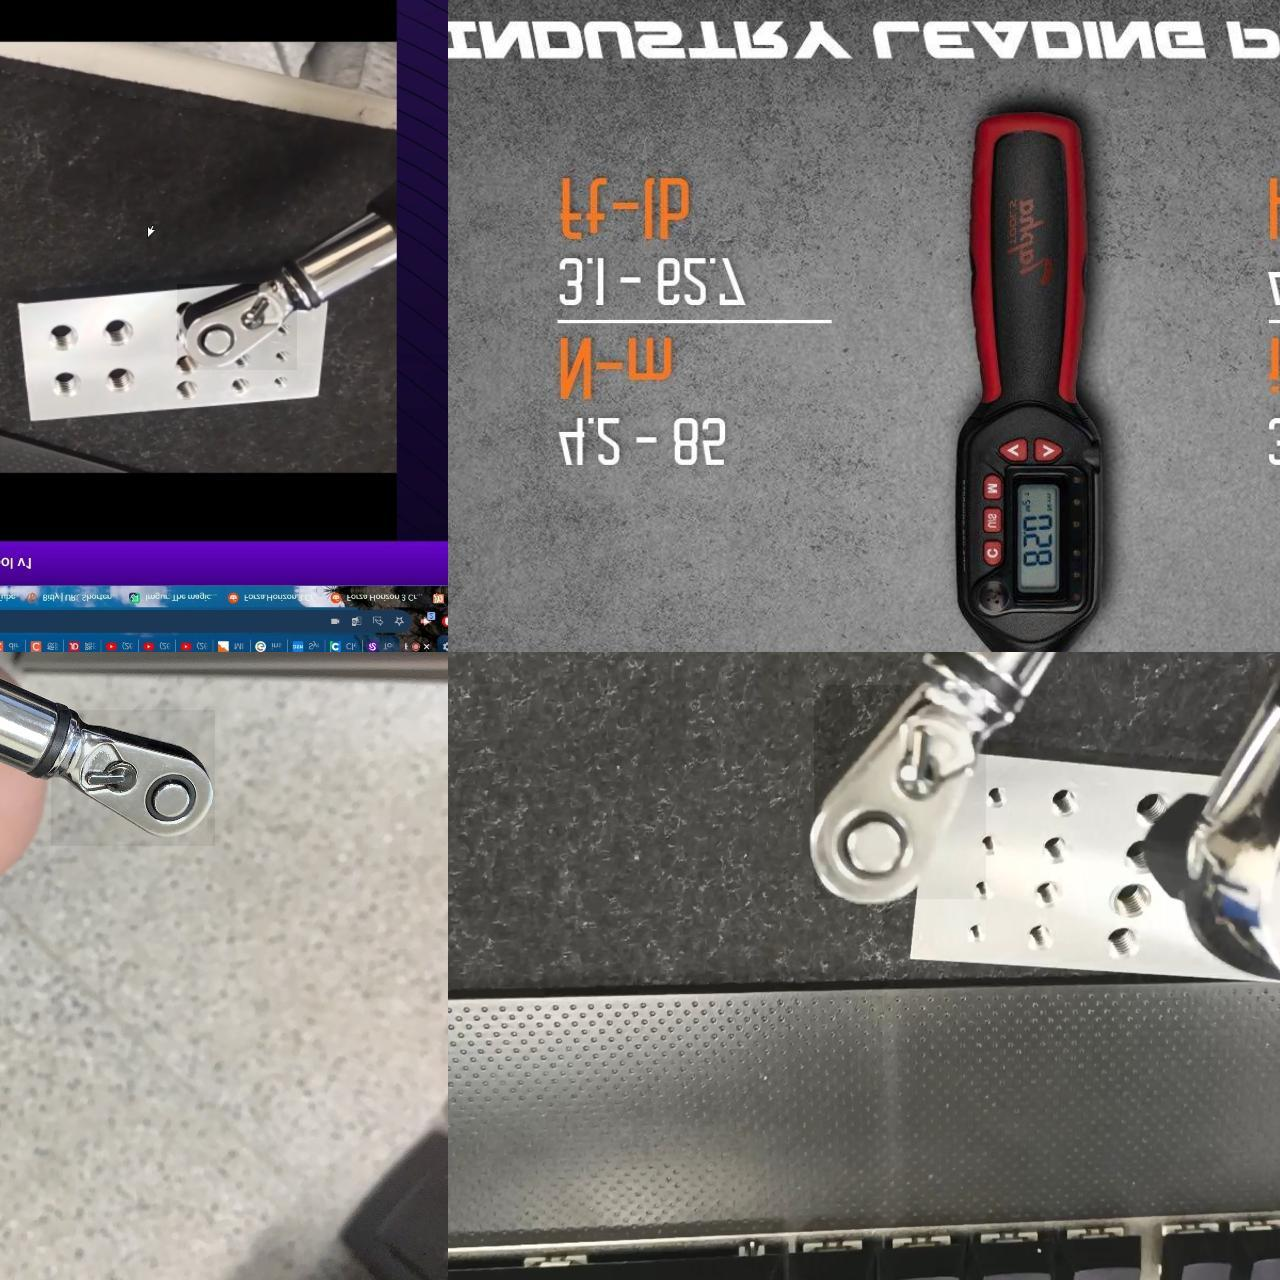Tool: (812, 685, 986, 898), (50, 709, 215, 845), (176, 282, 297, 369)
hole: (1111, 880, 1155, 919), (93, 313, 130, 352), (40, 319, 77, 356), (1133, 790, 1172, 826), (41, 368, 79, 404), (98, 366, 134, 402), (1032, 879, 1068, 912), (1125, 837, 1162, 870), (1047, 787, 1082, 819), (1109, 928, 1143, 961), (1041, 832, 1073, 863), (1027, 926, 1060, 955), (166, 381, 197, 411), (988, 785, 1017, 813), (169, 358, 197, 384), (966, 920, 994, 947), (972, 876, 998, 901), (979, 830, 1003, 856), (225, 382, 247, 404), (273, 349, 292, 369), (233, 352, 251, 368), (268, 376, 288, 390), (277, 320, 287, 334)
